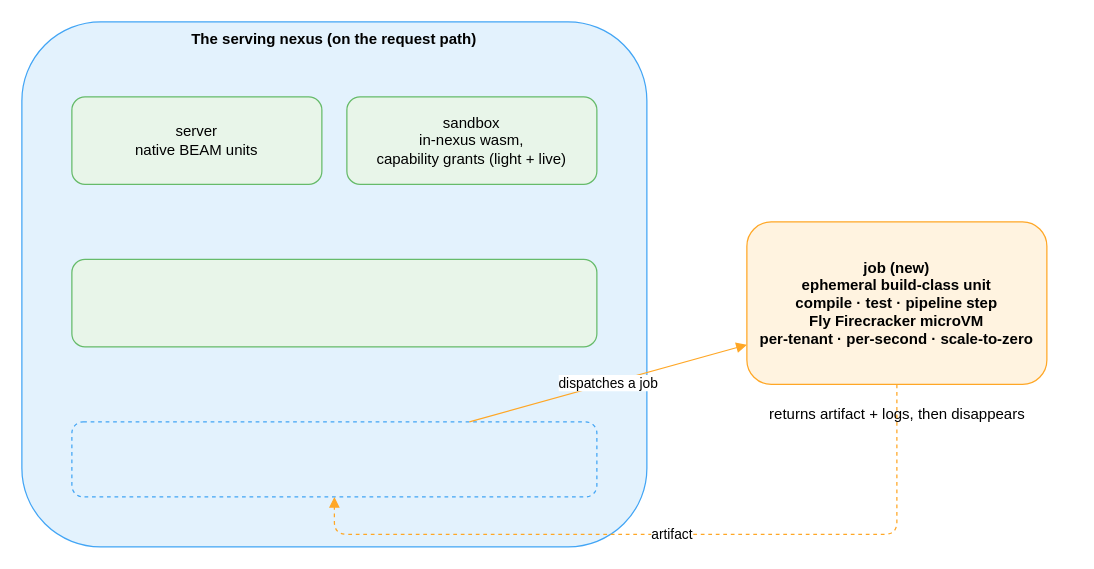
Image size: 1094x569. Some labels were removed from this diagram. Each missing label, with the centre of its shape:
agent ephemeral LLM sandboxed function (prompt + tools + grant): the point at 334,302
dispatch (off the serving path): the point at 334,459
